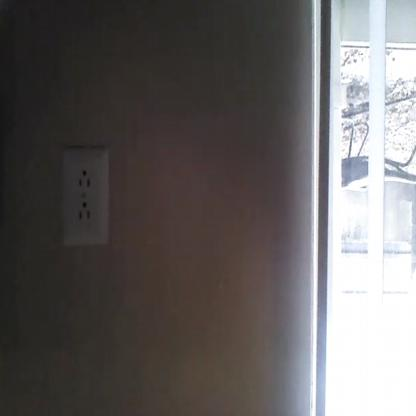OUTLET: (63, 148, 110, 246)
